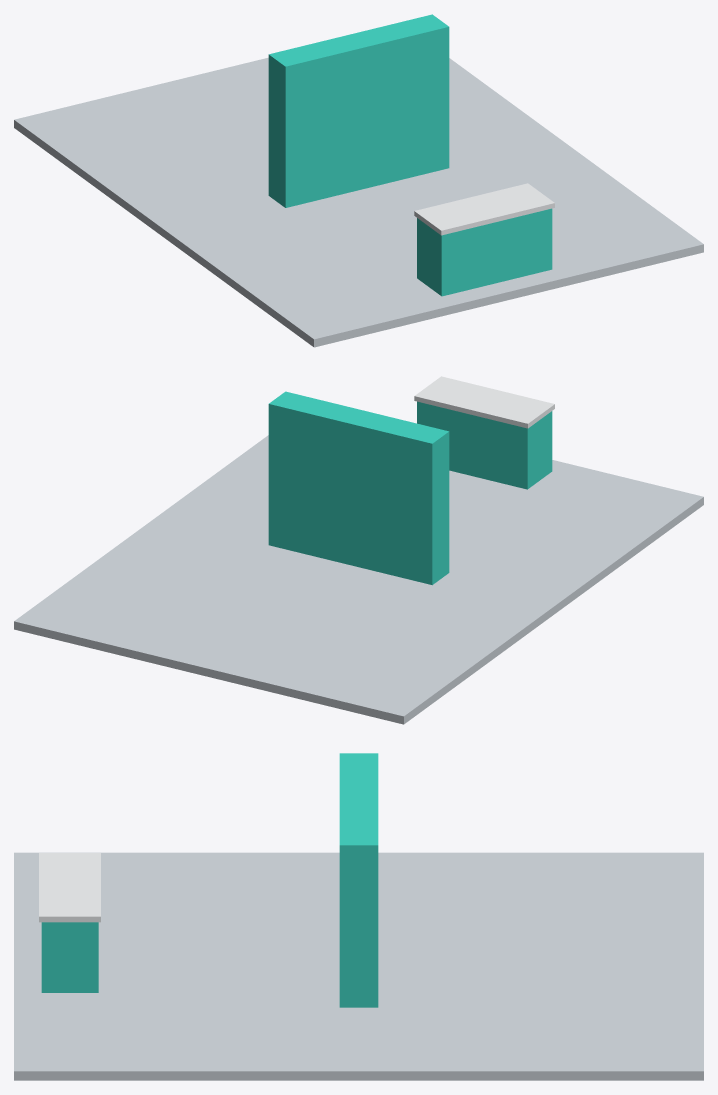
3 renders of one model, top to bottom at view 1: azimuth 30°, elevation 25°; view 2: azimuth 150°, elevation 25°; view 3: azimuth 270°, elevation 25°, orthographic. The views are drawn at different scales.
Parts seen in each view (by area): view 1: Exhibition Booth Concept; view 2: Exhibition Booth Concept; view 3: Exhibition Booth Concept.
Boxes of the visible parts, left/top/right/bottom form: Exhibition Booth Concept: left=14, top=14, right=703, bottom=347; Exhibition Booth Concept: left=14, top=376, right=703, bottom=724; Exhibition Booth Concept: left=14, top=753, right=703, bottom=1080.
Size of the model in its own units: 6 by 2.2 by 8.
